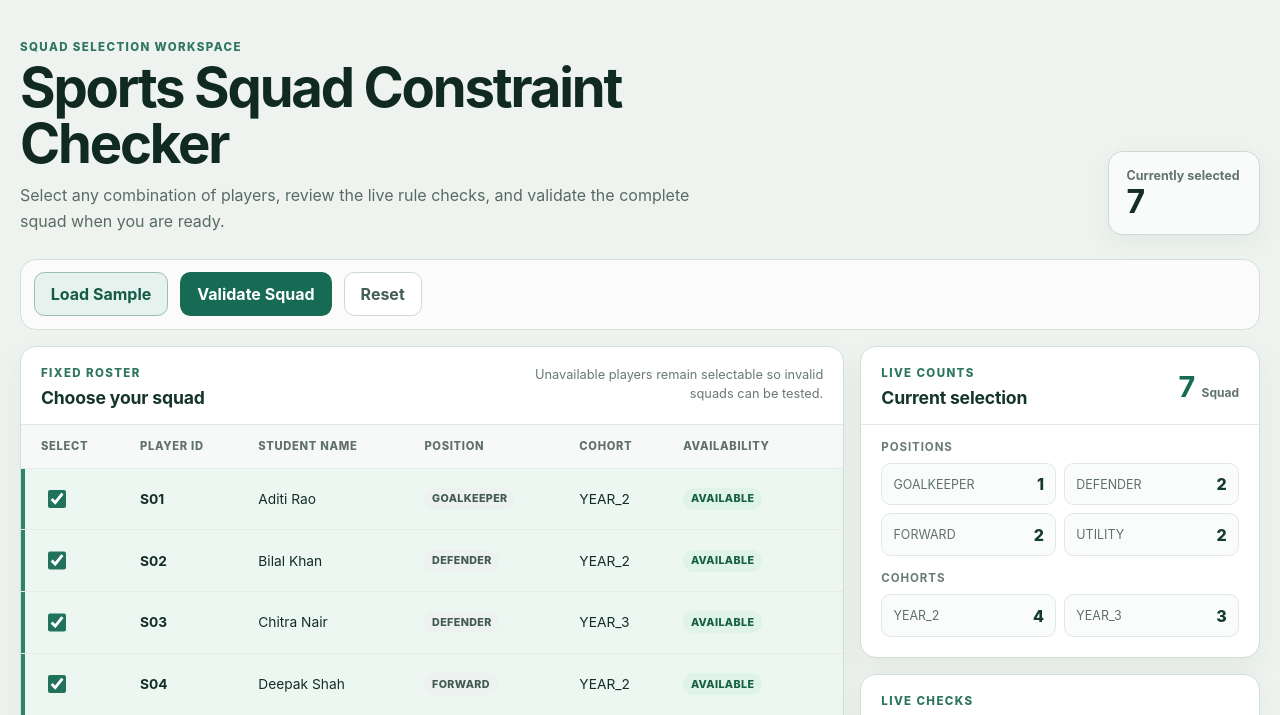
it: Sports Squad Constraint Checker UI › clears a stale verdict and updates live analysis after selection changes
Click the button "Validate Squad".
click(256, 294)  # box [180,272,332,316]
(page scrolled)
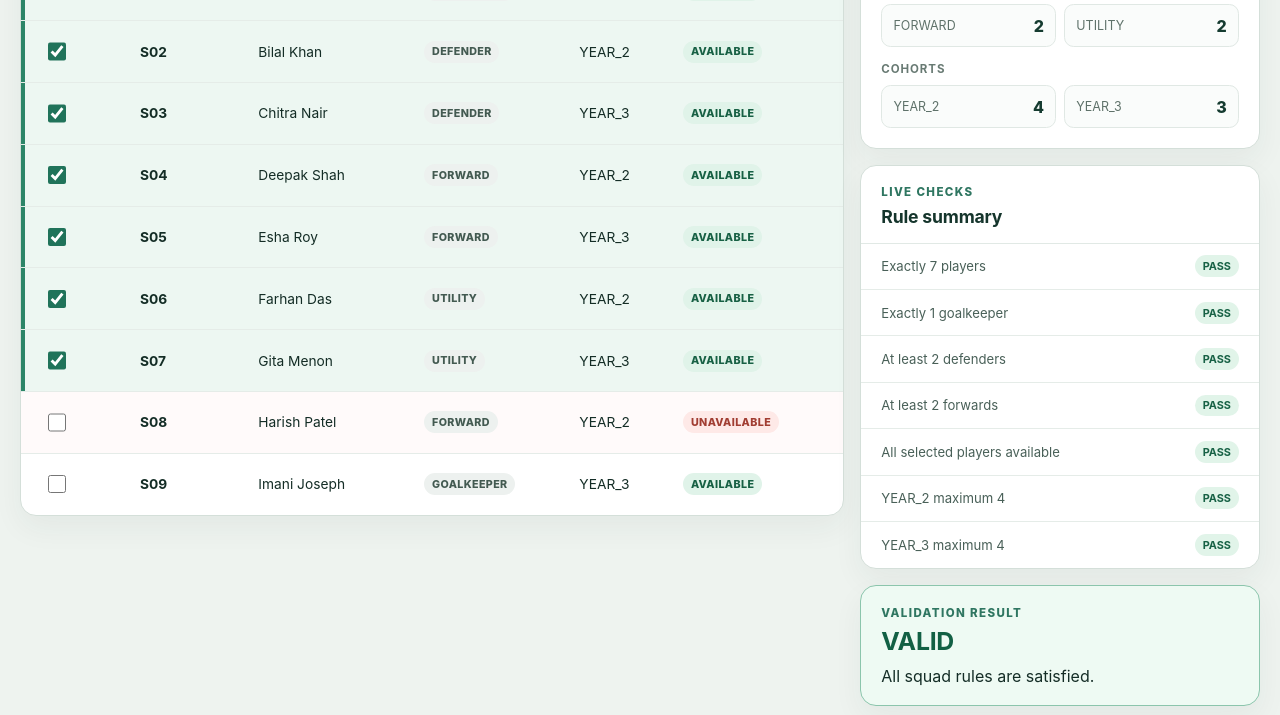
Expected: the heading "VALID" is shown, [881,626,954,656]
Click the checkbox next to "S07".
click(57, 361)  # box [48,351,66,370]
(page scrolled)
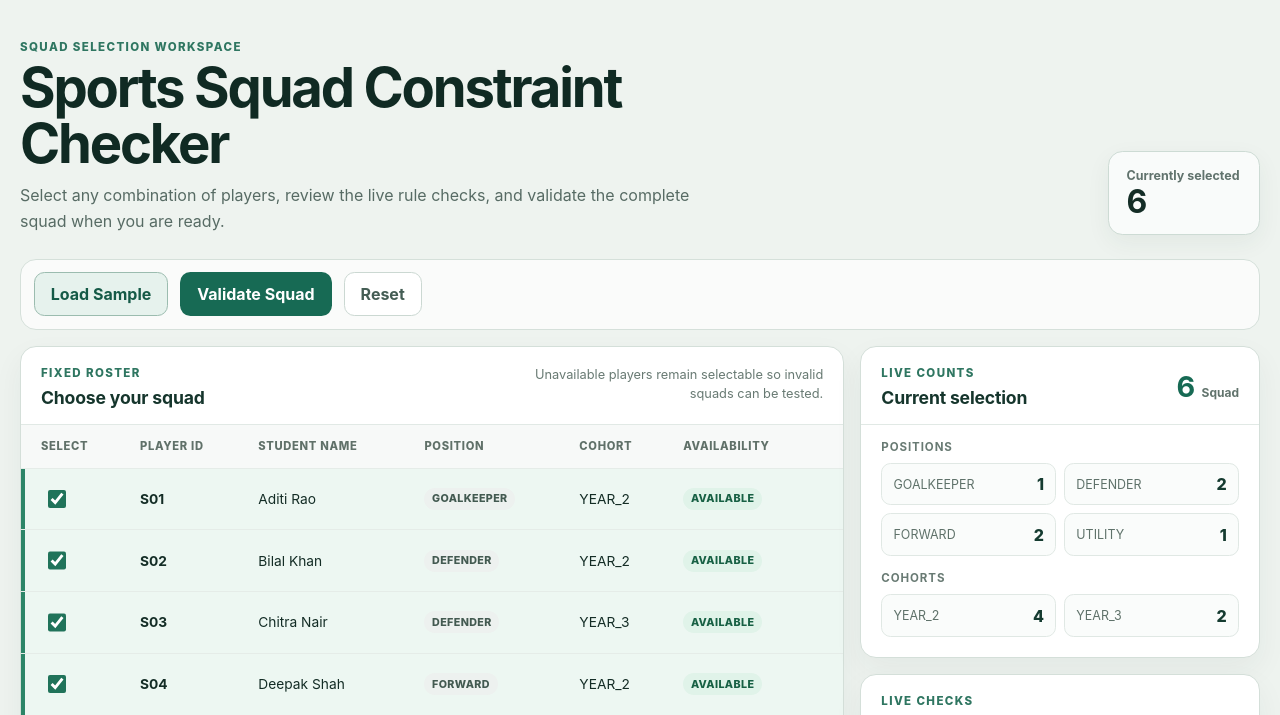
Expected: the 2nd text "1" is shown, [1220,525,1227,545]
Expected: the 3rd text "2" is shown, [1217,606,1227,626]
Click the button "Validate Squad".
click(256, 294)  # box [180,272,332,316]
(page scrolled)
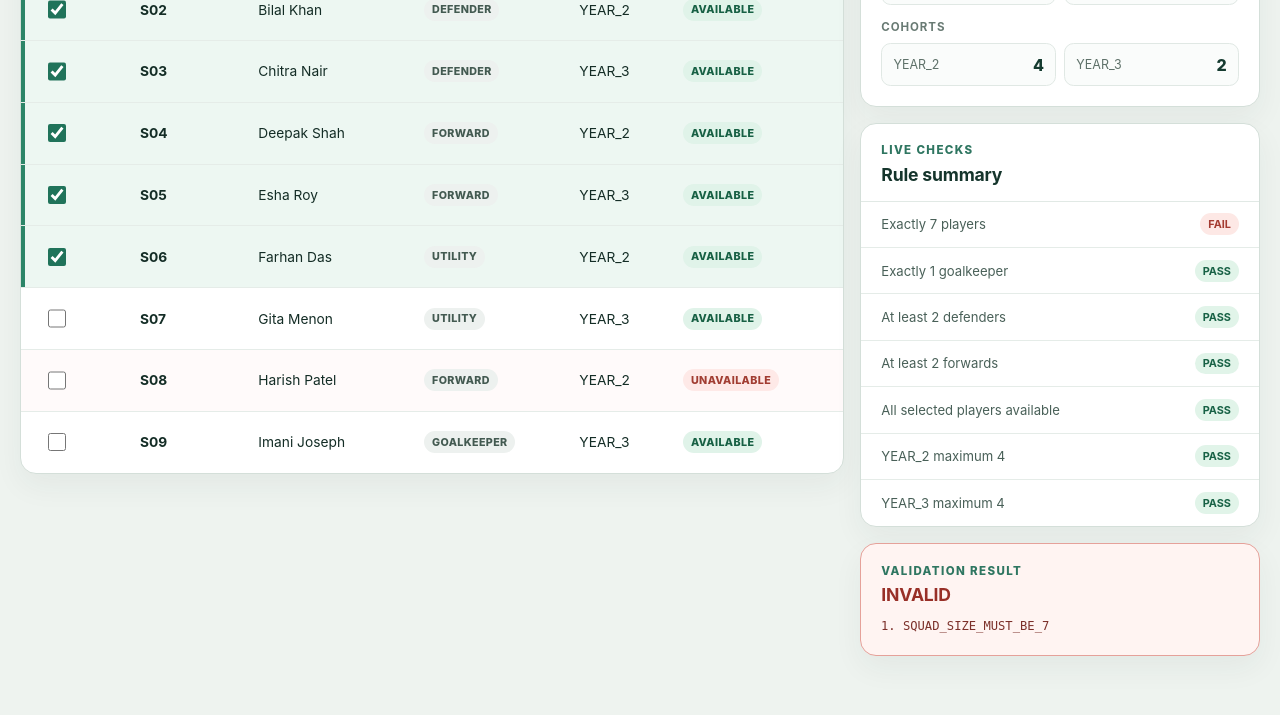
Expected: the heading "INVALID" is shown, [881,584,951,605]
Expected: the list item "SQUAD_SIZE_MUST_BE_7" is shown, [903,619,1049,633]
